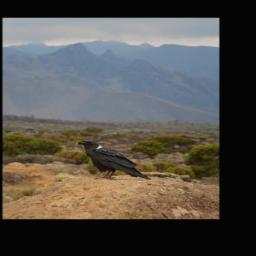Crow: (75, 139, 154, 182)
